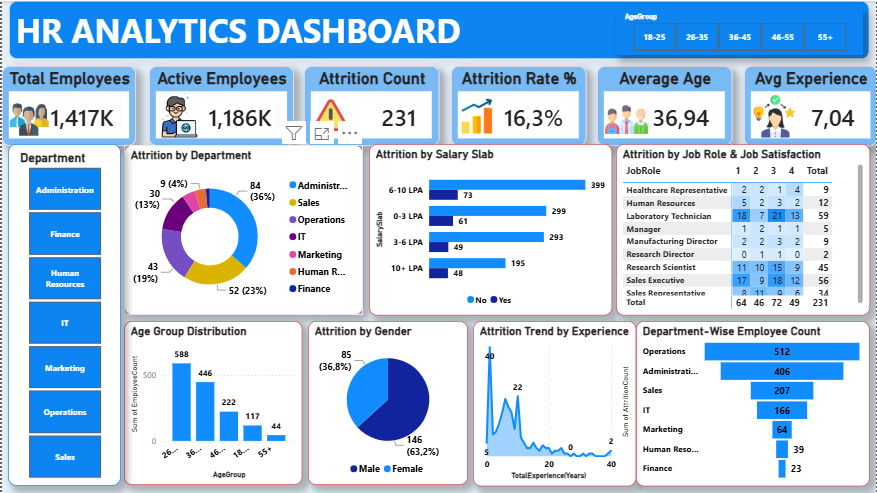

This screenshot's page, from the dashboard's own definition file:
{"tool":"powerbi","page":{"name":"Page 1","canvas":[1280,720],"ordinal":0},"visuals":[{"type":"textbox","box":[10,0,1259,85],"z":0},{"type":"cardVisual","title":"Total Employees","fields":{"Data":["CountNonNull(HR_Analytics-4(1).EmpID)"]},"box":[0,95.6,196.4,116.5],"z":1000},{"type":"cardVisual","title":"Active Employees","fields":{"Data":["CountNonNull(HR_Analytics-4(1).EmployeeCount)"]},"box":[214.7,95.6,212.1,116.5],"z":2000},{"type":"cardVisual","title":"Attrition Count","fields":{"Data":["Sum(HR_Analytics-4(1).AttritionCount)"]},"box":[442.5,95.6,197.7,116.5],"z":3000},{"type":"cardVisual","title":"Attrition Rate %","fields":{"Data":["HR_Analytics-4(1).Attrition Rate %"]},"box":[657.2,95.6,197.7,116.5],"z":4000},{"type":"cardVisual","title":"Average Age ","fields":{"Data":["Avg(HR_Analytics-4(1).Age)"]},"box":[870.5,95.6,197.7,116.5],"z":5000},{"type":"cardVisual","title":"Avg Experience","fields":{"Data":["Avg(HR_Analytics-4(1).YearsatCompany)"]},"box":[1085.2,95.6,195.1,116.5],"z":6000},{"type":"image","box":[1095.8,136.8,69.1,64.8],"z":7000},{"type":"image","box":[882.7,133.9,63.4,77.8],"z":8000},{"type":"image","box":[668.2,139.7,51.8,59],"z":9000},{"type":"image","box":[455,136.8,51.8,61.9],"z":10000},{"type":"image","box":[226.1,133.9,69.1,64.8],"z":11000},{"type":"image","box":[10.1,136.8,59,74.9],"z":12000},{"type":"donutChart","title":"Attrition by Department","fields":{"Category":["HR_Analytics-4(1).Department"],"Y":["Sum(HR_Analytics-4(1).AttritionCount)"]},"box":[179,210,350,249],"z":13000},{"type":"clusteredBarChart","title":"Attrition by Salary Slab","fields":{"Category":["HR_Analytics-4(1).SalarySlab"],"Y":["CountNonNull(HR_Analytics-4(1).EmpID)"],"Series":["HR_Analytics-4(1).Attrition"]},"box":[537,209,355.7,251],"z":14000},{"type":"pivotTable","title":"Attrition by Job Role & Job Satisfaction","fields":{"Rows":["HR_Analytics-4(1).JobRole"],"Values":["Sum(HR_Analytics-4(1).AttritionCount)"],"Columns":["HR_Analytics-4(1).JobSatisfaction"]},"box":[898,209,371.5,251],"z":15000},{"type":"columnChart","title":"Age Group Distribution","fields":{"Category":["HR_Analytics-4(1).AgeGroup"],"Y":["Sum(HR_Analytics-4(1).EmployeeCount)"]},"box":[179,469,261,240.5],"z":16000},{"type":"pieChart","title":"Attrition by Gender","fields":{"Category":["HR_Analytics-4(1).Gender"],"Y":["Sum(HR_Analytics-4(1).AttritionCount)"]},"box":[448,469,234,240],"z":17000},{"type":"areaChart","title":"Attrition Trend by Experience","fields":{"Category":["HR_Analytics-4(1).TotalExperience(Years)"],"Y2":["Sum(HR_Analytics-4(1).AttritionCount)"]},"box":[689,469,239,242],"z":18000},{"type":"funnel","title":"Department-Wise Employee Count","fields":{"Category":["HR_Analytics-4(1).Department"],"Y":["CountNonNull(HR_Analytics-4(1).EmpID)"]},"box":[928,469,342,242],"z":19000},{"type":"slicer","fields":{"Values":["HR_Analytics-4(1).Department"]},"box":[9,209,165,500],"z":19001},{"type":"slicer","fields":{"Values":["HR_Analytics-4(1).AgeGroup"]},"box":[898,12,361,68],"z":19002}]}

Visuals, with their boxes in screenshot pixels (x1, y1, x2, y2), scaled from the page's 1280x720 canvas onto the 877x493 screenshot:
textbox: 7/0/869/58
"Total Employees" cardVisual: 0/65/135/145
"Active Employees" cardVisual: 147/65/292/145
"Attrition Count" cardVisual: 303/65/439/145
"Attrition Rate %" cardVisual: 450/65/586/145
"Average Age " cardVisual: 596/65/732/145
"Avg Experience" cardVisual: 744/65/876/145
image: 751/94/798/138
image: 605/92/648/145
image: 458/96/493/136
image: 312/94/347/136
image: 155/92/202/136
image: 7/94/47/145
"Attrition by Department" donutChart: 123/144/362/314
"Attrition by Salary Slab" clusteredBarChart: 368/143/612/315
"Attrition by Job Role & Job Satisfaction" pivotTable: 615/143/870/315
"Age Group Distribution" columnChart: 123/321/301/486
"Attrition by Gender" pieChart: 307/321/467/485
"Attrition Trend by Experience" areaChart: 472/321/636/487
"Department-Wise Employee Count" funnel: 636/321/870/487
slicer - HR_Analytics-4(1).Department: 6/143/119/485
slicer - HR_Analytics-4(1).AgeGroup: 615/8/863/55
